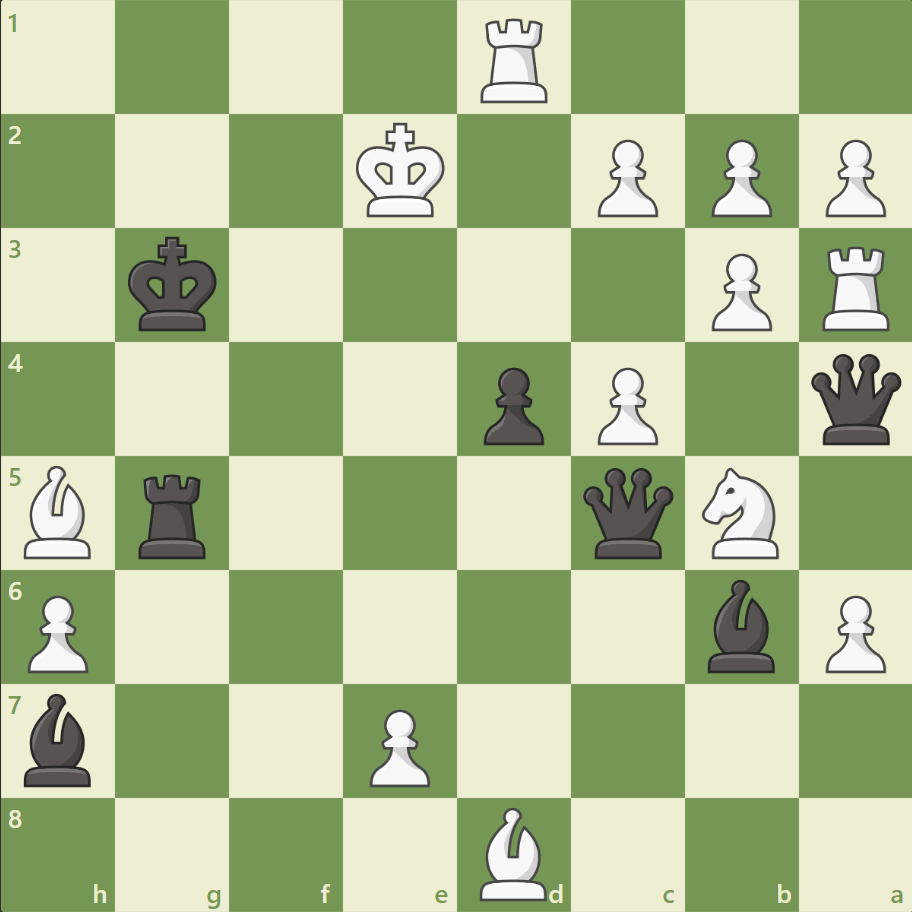B: (471, 801, 555, 904), (17, 460, 101, 563)
K: (351, 117, 451, 225)
N: (692, 461, 789, 564)
P: (20, 586, 95, 677), (701, 246, 776, 337), (701, 132, 776, 223), (361, 700, 435, 791), (815, 586, 889, 677), (588, 359, 662, 450), (815, 132, 889, 223), (588, 132, 662, 223)
R: (814, 239, 897, 336), (473, 12, 556, 109)
b: (17, 687, 101, 790), (698, 574, 782, 676)
k: (124, 231, 224, 339)
p: (474, 359, 549, 450)
q: (805, 349, 904, 449), (578, 463, 677, 562)
r: (133, 466, 215, 563)
